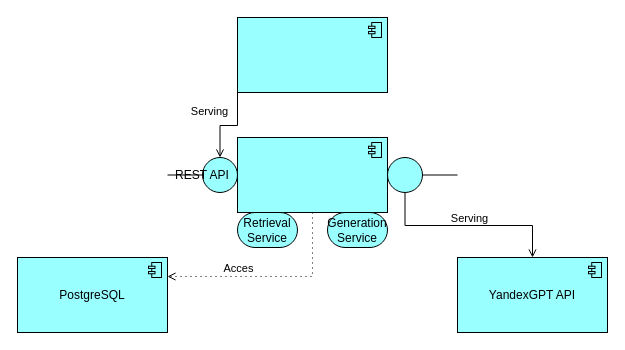
Some shapes in this 625 by 350 pixel diagram are drawn without their labels. Each missing label, with the centre of its shape:
"AI Integration Gateway" belongs at (312,174).
"External API Client" belongs at (422,174).
"Moodle LMS" belongs at (312,54).
